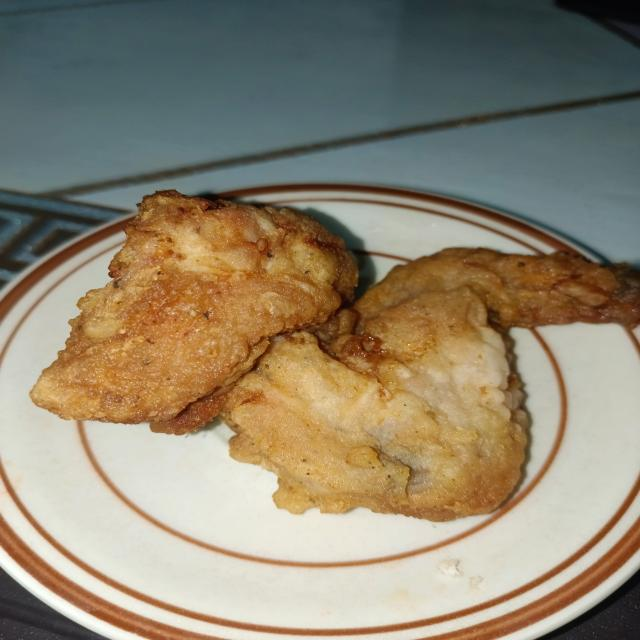Chicken -Fried Chicken-: (26, 178, 640, 522)
